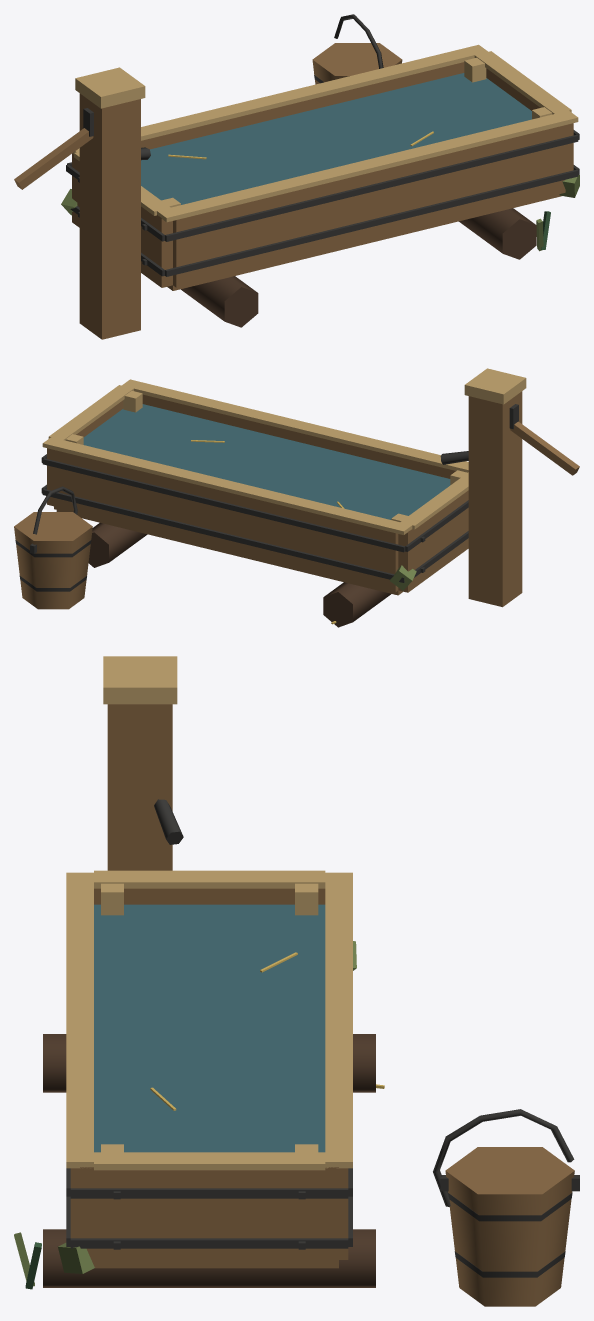
File: trough-bucket.glb
3 views of the same model, one above another, from view 1: azimuth 30°, elevation 25°; view 2: azimuth 150°, elevation 25°; view 3: azimuth 270°, elevation 25° (orthographic). The views are drawn at different scales.
Parts seen in each view (by area): view 1: Mesh_WaterSurface, Mesh_PumpBody, Mesh_SideBoard_R_1, Mesh_SideBoard_R_0, Mesh_SideRail_R, Mesh_SideBoard_R_2, Mesh_SideRail_L, Mesh_SideBoard_L_2, Mesh_Band_R_0, Mesh_Band_R_1, Mesh_SupportLog_1, Mesh_SupportLog_2 (+12 smaller); view 2: Mesh_WaterSurface, Mesh_PumpBody, Mesh_SideBoard_L_1, Mesh_BucketBody, Mesh_SideBoard_L_0, Mesh_SideRail_L, Mesh_SideBoard_L_2, Mesh_SideRail_R, Mesh_SideBoard_R_2, Mesh_Band_L_1, Mesh_Band_L_0, Mesh_SupportLog_2 (+16 smaller); view 3: Mesh_WaterSurface, Mesh_BucketBody, Mesh_PumpBody, Mesh_EndBoard_F_1, Mesh_SupportLog_1, Mesh_SideRail_L, Mesh_SideRail_R, Mesh_EndBoard_F_0, Mesh_EndBoard_F_2, Mesh_EndRail_F, Mesh_EndRail_B, Mesh_PumpCap (+7 smaller).
Part boxes in pixels (bbox=[...]): Mesh_WaterSurface: bbox=[141, 73, 531, 204]; Mesh_PumpBody: bbox=[79, 93, 140, 339]; Mesh_SideBoard_R_1: bbox=[173, 146, 565, 264]; Mesh_SideBoard_R_0: bbox=[173, 169, 565, 287]; Mesh_SideRail_R: bbox=[157, 110, 578, 222]; Mesh_SideBoard_R_2: bbox=[173, 125, 565, 240]; Mesh_SideRail_L: bbox=[72, 44, 487, 154]; Mesh_SideBoard_L_2: bbox=[141, 62, 464, 149]; Mesh_Band_R_0: bbox=[165, 169, 578, 276]; Mesh_Band_R_1: bbox=[165, 134, 578, 241]; Mesh_SupportLog_1: bbox=[459, 208, 536, 259]; Mesh_SupportLog_2: bbox=[181, 276, 258, 327]; Mesh_WaterSurface: bbox=[83, 404, 450, 519]; Mesh_PumpBody: bbox=[468, 391, 522, 607]; Mesh_SideBoard_L_1: bbox=[54, 468, 398, 571]; Mesh_BucketBody: bbox=[14, 512, 92, 609]; Mesh_SideBoard_L_0: bbox=[54, 489, 398, 592]; Mesh_SideRail_L: bbox=[42, 437, 412, 534]; Mesh_SideBoard_L_2: bbox=[54, 450, 398, 551]; Mesh_SideRail_R: bbox=[122, 379, 468, 472]; Mesh_SideBoard_R_2: bbox=[142, 394, 455, 478]; Mesh_Band_L_1: bbox=[42, 458, 405, 552]; Mesh_Band_L_0: bbox=[42, 489, 404, 582]; Mesh_SupportLog_2: bbox=[323, 582, 390, 627]; Mesh_WaterSurface: bbox=[94, 904, 325, 1152]; Mesh_BucketBody: bbox=[445, 1147, 574, 1306]; Mesh_PumpBody: bbox=[107, 704, 172, 870]; Mesh_EndBoard_F_1: bbox=[80, 1200, 338, 1234]; Mesh_SupportLog_1: bbox=[43, 1229, 375, 1287]; Mesh_SideRail_L: bbox=[325, 872, 352, 1168]; Mesh_SideRail_R: bbox=[66, 872, 93, 1168]; Mesh_EndBoard_F_0: bbox=[80, 1234, 338, 1267]; Mesh_EndBoard_F_2: bbox=[80, 1167, 338, 1200]; Mesh_EndRail_F: bbox=[94, 1152, 325, 1170]; Mesh_EndRail_B: bbox=[94, 870, 325, 888]; Mesh_PumpCap: bbox=[103, 656, 177, 704].
Size of the model in its own units: 1.95 by 0.84 by 1.22.
Materials: 1 (1 with a texture image).
